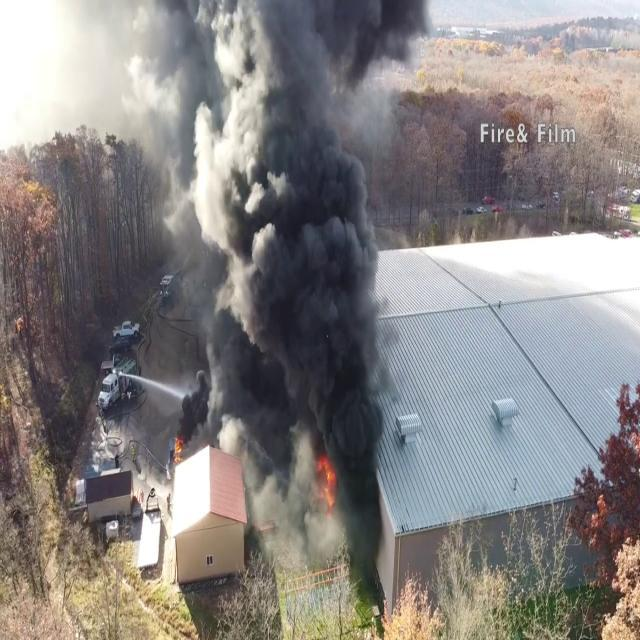Smoke: (180, 1, 422, 566)
